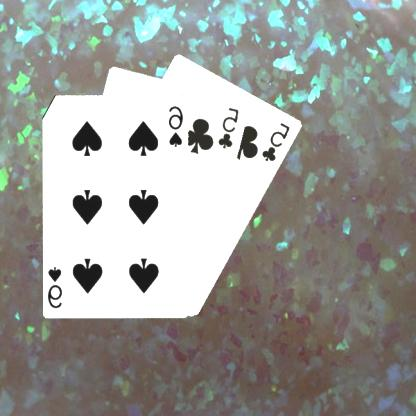5C: (261, 119, 294, 163), (217, 104, 243, 150)
6S: (168, 103, 187, 148), (48, 264, 66, 309)
